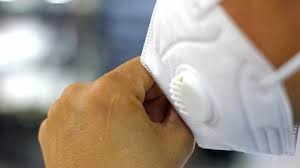flumask: (141, 6, 290, 156)
